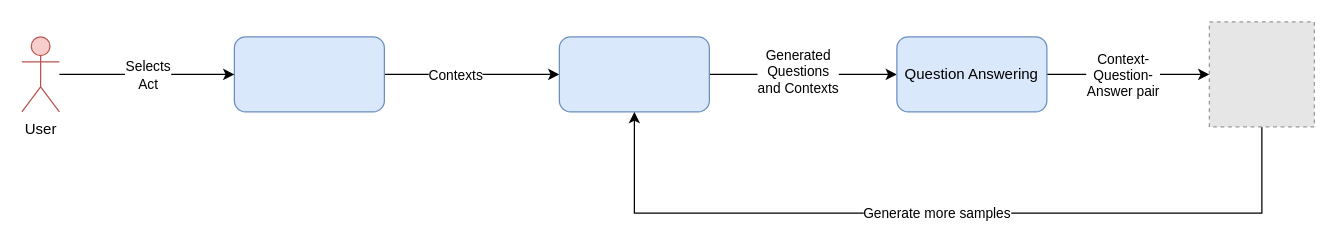
Some shapes in this 1336 by 245 pixel diagram are drawn without their labels. Grey dashed boxes stand in for pictures. Each missing label, with the centre of its shape:
Preprocessing and Context Creation: point 308,74
Question Generation: point 633,74
